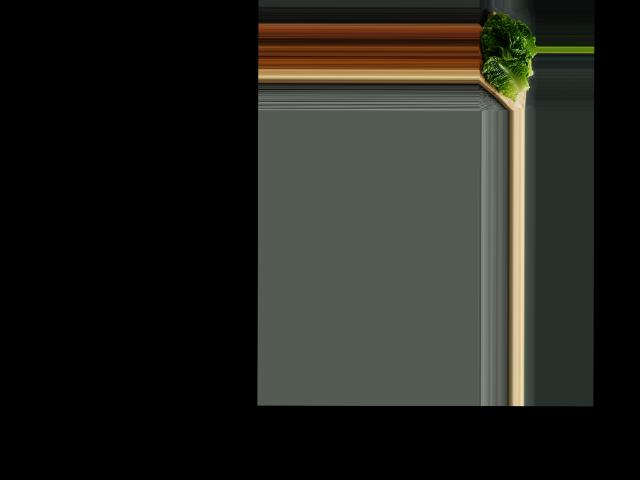lettuce: (478, 10, 536, 98)
